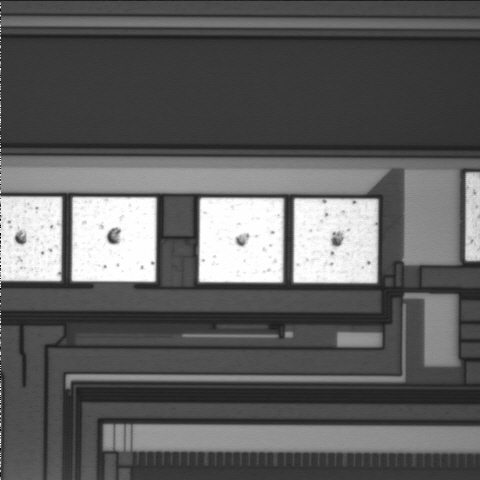pad: (199, 198, 284, 283), (293, 198, 378, 283), (72, 197, 156, 282)
